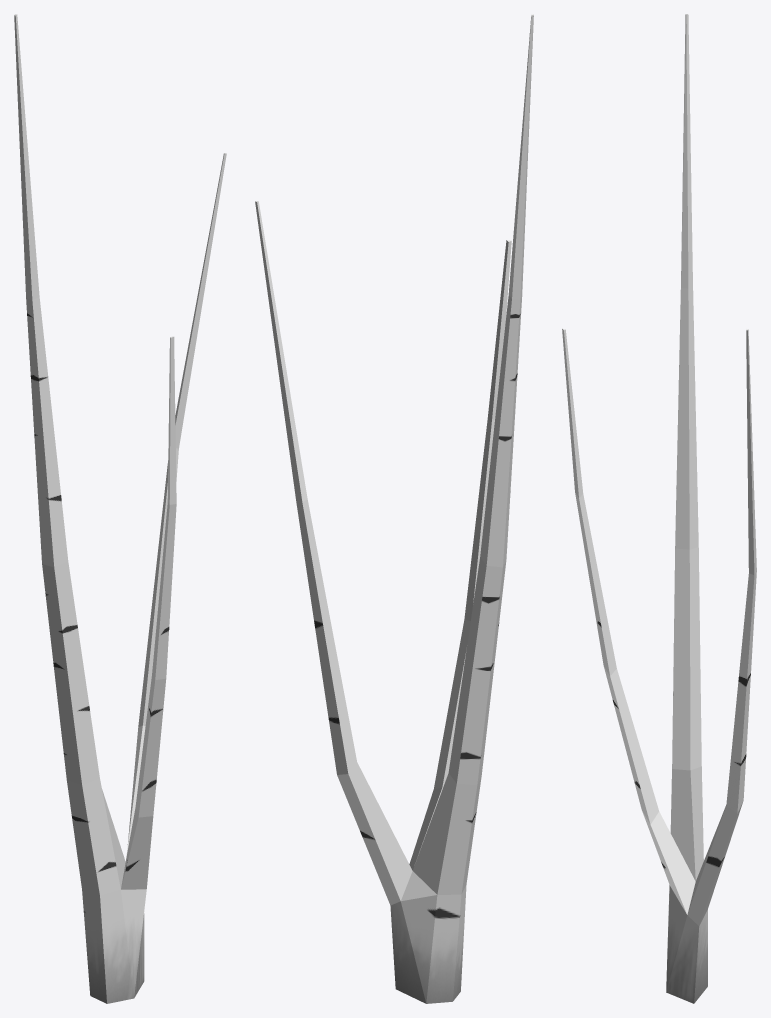
The model's file is Birch_Tree_NoLeaves_m_Snow_BT_08.fbx.
3 renders of one model, left to right at view 1: azimuth 30°, elevation 25°; view 2: azimuth 150°, elevation 25°; view 3: azimuth 270°, elevation 25°, orthographic. The views are drawn at different scales.
Visible parts, largest first — view 1: Birch_Tree_NoLeaves_m_Snow_BT_08; view 2: Birch_Tree_NoLeaves_m_Snow_BT_08; view 3: Birch_Tree_NoLeaves_m_Snow_BT_08.
Boxes of the visible parts, box(x1,y1,x2,y2) form: Birch_Tree_NoLeaves_m_Snow_BT_08: box(14, 14, 226, 1003); Birch_Tree_NoLeaves_m_Snow_BT_08: box(255, 14, 533, 1003); Birch_Tree_NoLeaves_m_Snow_BT_08: box(562, 14, 756, 1003).
Size of the model in its own units: 161 by 631 by 120.
